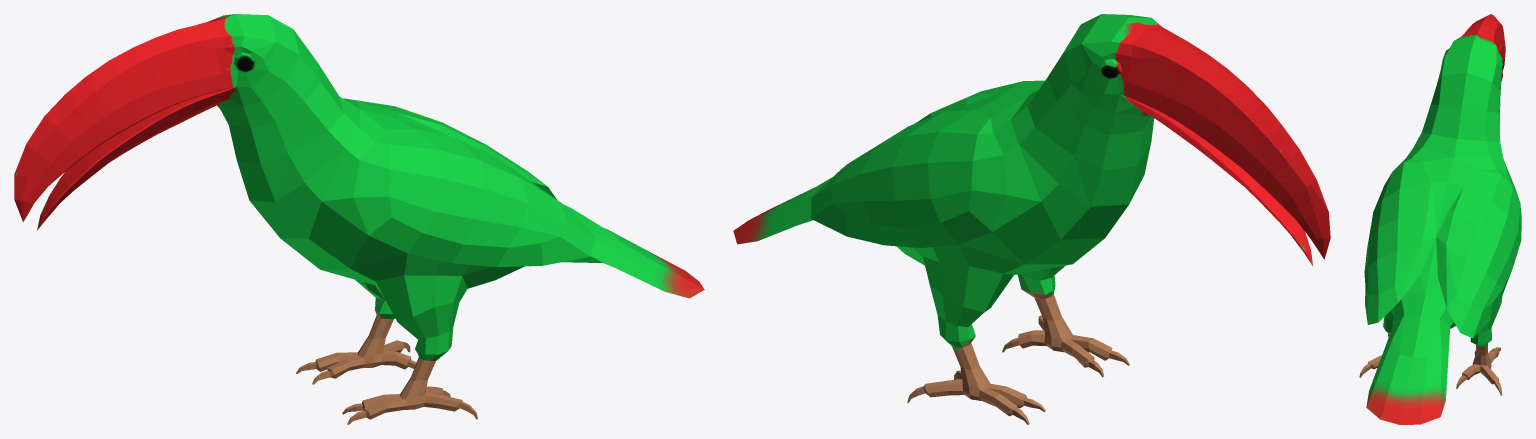
Rendered from tocotoucangreen.fbx.
3 views of the same model, side by side, from view 1: azimuth 30°, elevation 25°; view 2: azimuth 150°, elevation 25°; view 3: azimuth 270°, elevation 25° (orthographic). The views are drawn at different scales.
Visible parts, largest first — view 1: node_id5; view 2: node_id5; view 3: node_id5.
Part boxes in pixels (x1=…): node_id5: x1=14, y1=14, x2=704, y2=424; node_id5: x1=733, y1=14, x2=1330, y2=424; node_id5: x1=1359, y1=14, x2=1521, y2=424.
Size of the model in its own units: 0.4848 by 0.2981 by 0.1508.
Materials: 1 (1 with a texture image).
